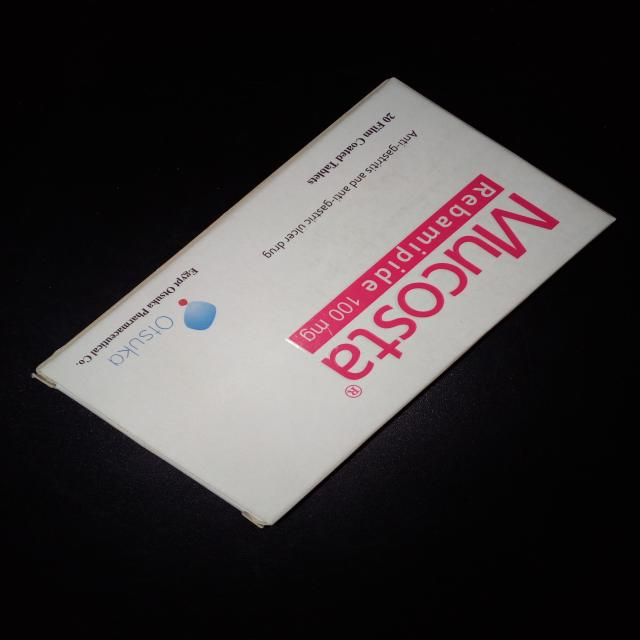Medicine: (30, 76, 624, 534)
